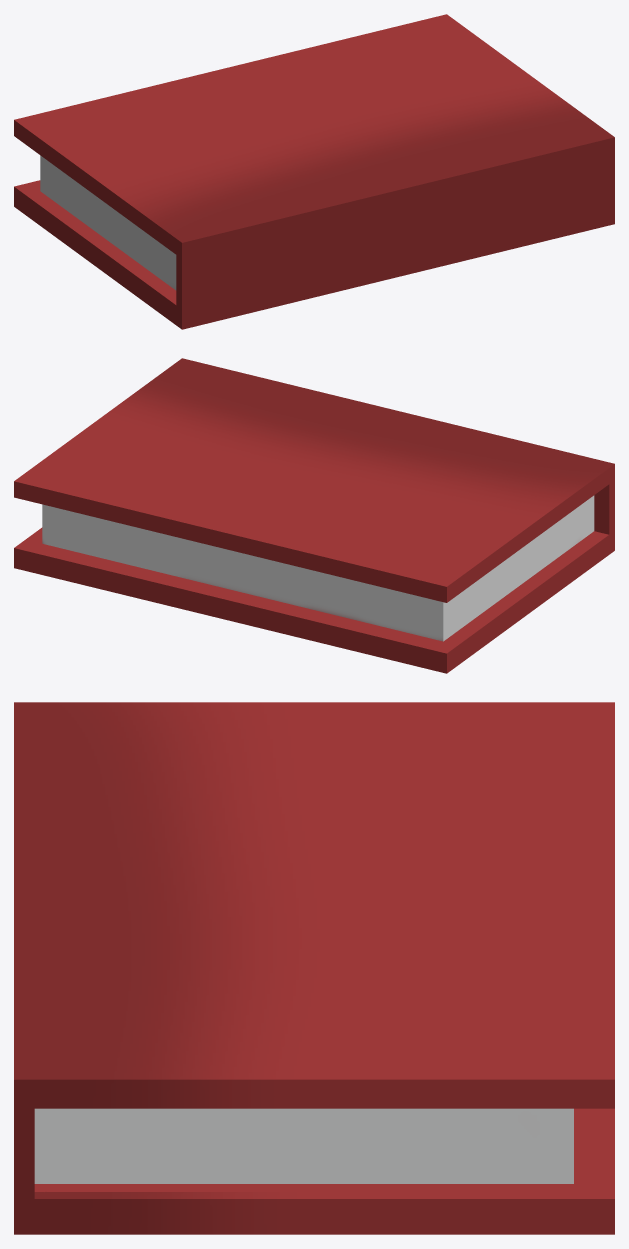
The model's file is Book (Red).fbx.
The picture shows the model from 3 angles, top to bottom: view 1: azimuth 30°, elevation 25°; view 2: azimuth 150°, elevation 25°; view 3: azimuth 270°, elevation 25°; orthographic projection. The views are drawn at different scales.
Parts seen in each view (by area): view 1: Cube.001; view 2: Cube.001; view 3: Cube.001.
Boxes of the visible parts, x1,y1,x2,y2 form: Cube.001: (14,14,614,329); Cube.001: (14,358,614,673); Cube.001: (14,702,614,1234).
Bounding box in the file's own units: 106 × 20.34 × 71.4.
